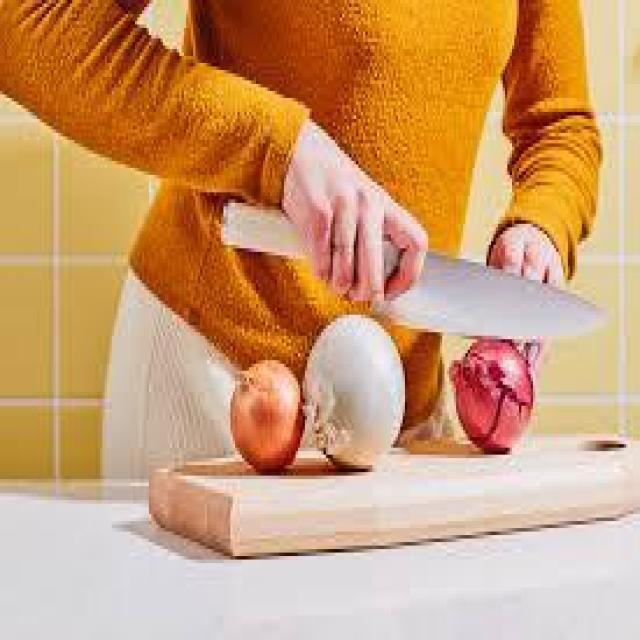faca: (277, 101, 617, 346)
